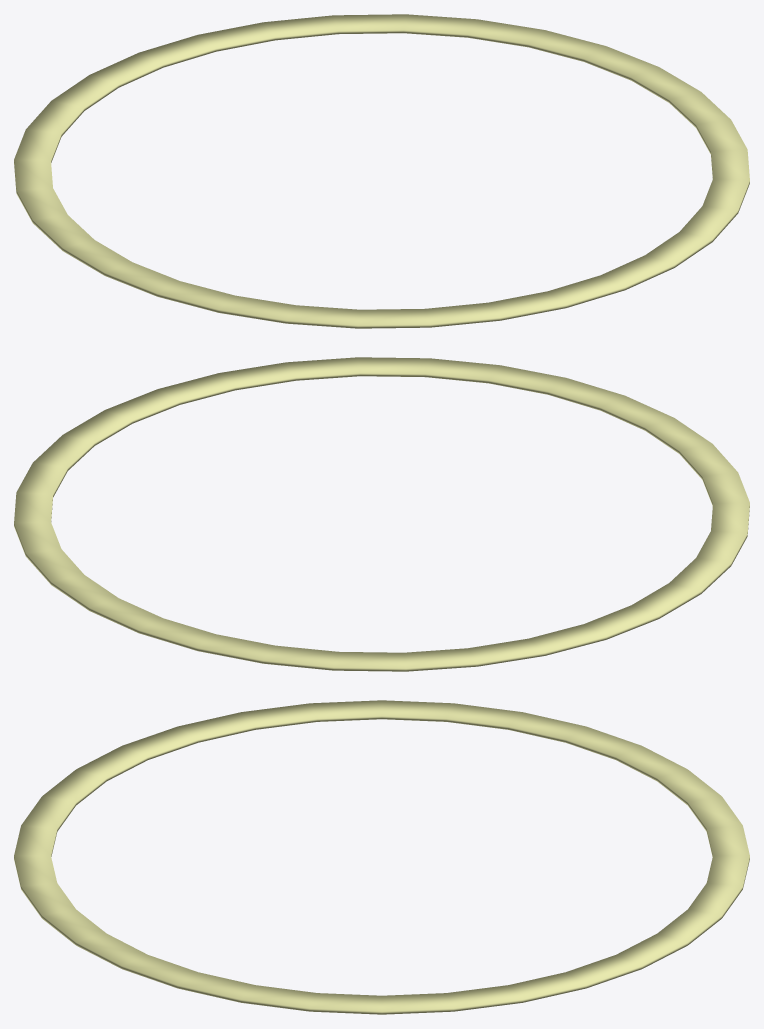
Rendered from LightRing.fbx.
3 renders of one model, top to bottom at view 1: azimuth 30°, elevation 25°; view 2: azimuth 150°, elevation 25°; view 3: azimuth 270°, elevation 25°, orthographic.
Parts seen in each view (by area): view 1: LightRing; view 2: LightRing; view 3: LightRing.
Boxes of the visible parts, x1,y1,x2,y2 form: LightRing: (14, 14, 749, 328); LightRing: (14, 357, 749, 671); LightRing: (14, 700, 749, 1014).
Size of the model in its own units: 4000 by 20 by 4000.
